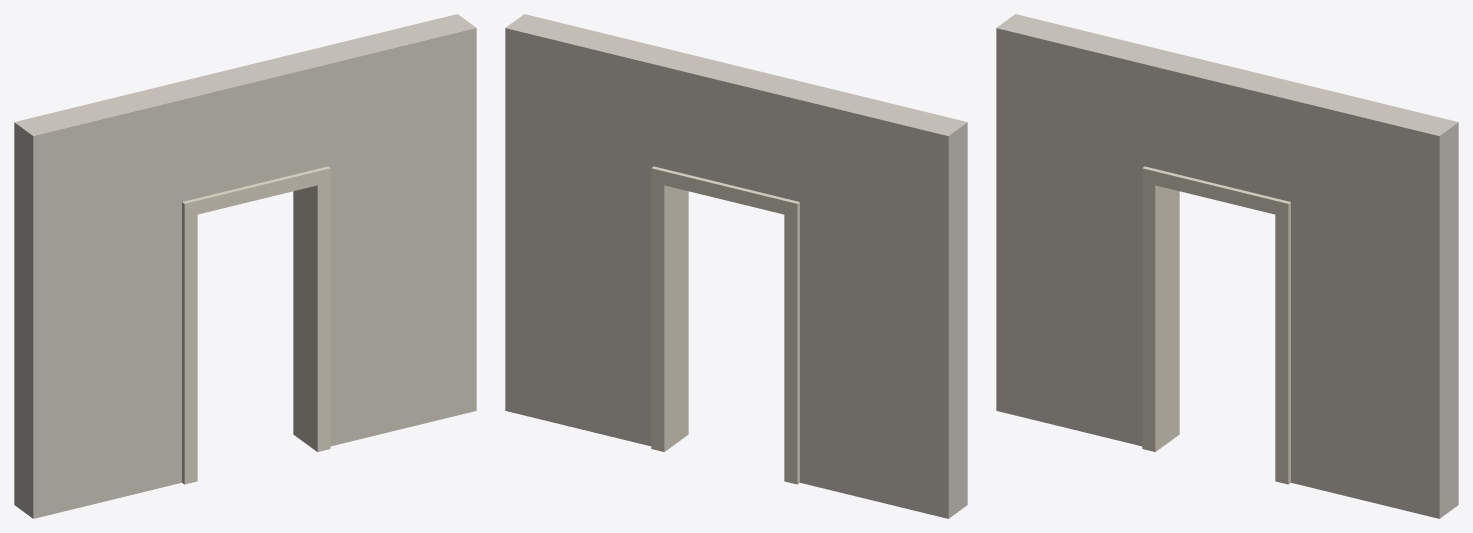
Rendered from b-wall_door.glb.
The picture shows the model from 3 angles, left to right: view 1: azimuth 30°, elevation 25°; view 2: azimuth 150°, elevation 25°; view 3: azimuth 330°, elevation 25°; orthographic projection.
Parts seen in each view (by area): view 1: b-wall_door; view 2: b-wall_door; view 3: b-wall_door.
Part boxes in pixels (x1,y1,x2,y2): b-wall_door: (14, 14, 476, 518); b-wall_door: (505, 14, 967, 518); b-wall_door: (996, 14, 1458, 518).
Size of the model in its own units: 4 by 3.3 by 0.38.
